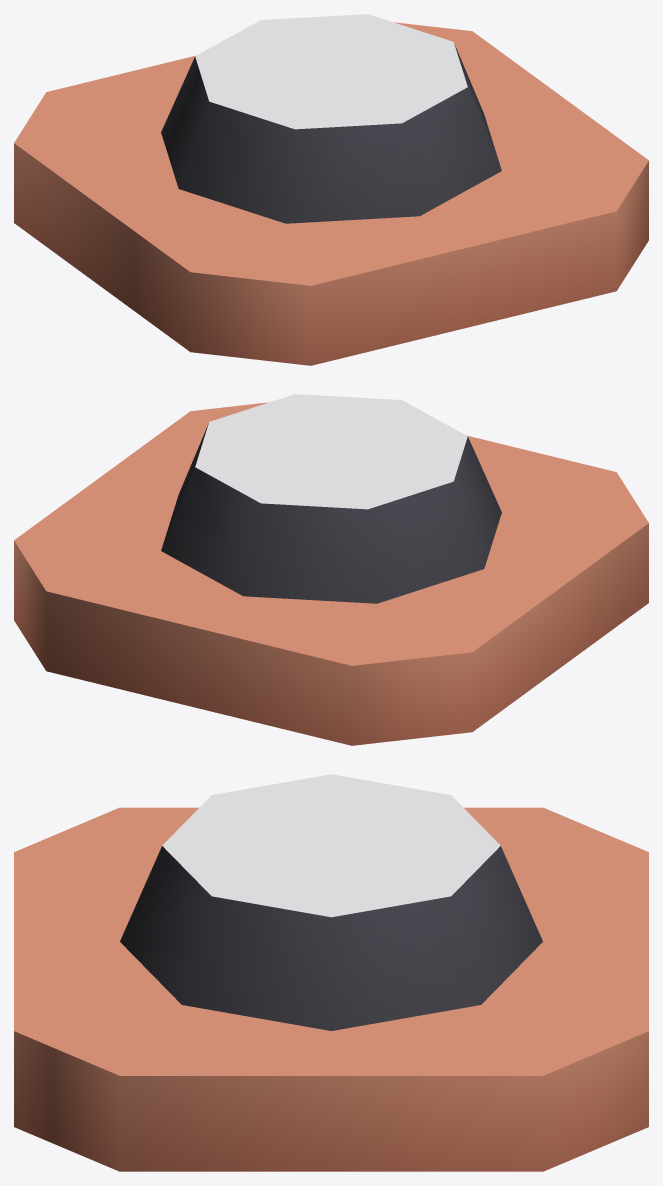
File: button-floor-round-small.obj
3 renders of one model, top to bottom at view 1: azimuth 30°, elevation 25°; view 2: azimuth 150°, elevation 25°; view 3: azimuth 270°, elevation 25°, orthographic. The views are drawn at different scales.
Visible parts, largest first — view 1: button-floor-round-small, button; view 2: button-floor-round-small, button; view 3: button-floor-round-small, button.
Boxes of the visible parts, x1,y1,x2,y2 form: button-floor-round-small: (14,22,648,365); button: (161,14,501,223); button-floor-round-small: (14,402,648,745); button: (161,394,501,603); button-floor-round-small: (14,807,648,1171); button: (120,774,542,1030).
Bounding box in the file's own units: 0.3 × 0.1 × 0.3.
